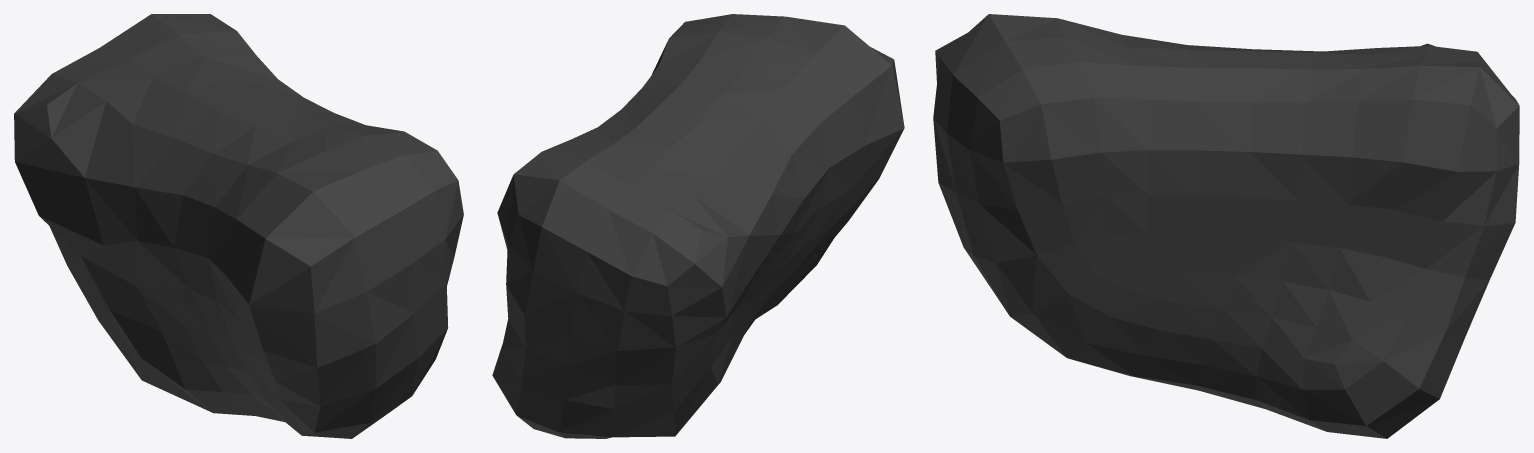
3 renders of one model, left to right at view 1: azimuth 30°, elevation 25°; view 2: azimuth 150°, elevation 25°; view 3: azimuth 270°, elevation 25°, orthographic. The views are drawn at different scales.
Visible parts, largest first — view 1: SB_7; view 2: SB_7; view 3: SB_7.
Part boxes in pixels (<box>): SB_7: <box>14,14,463,438</box>; SB_7: <box>492,14,904,438</box>; SB_7: <box>933,14,1519,438</box>.
Bounding box in the file's own units: 0.6549 × 0.8144 × 1.21.
1 material, 1 textured.
